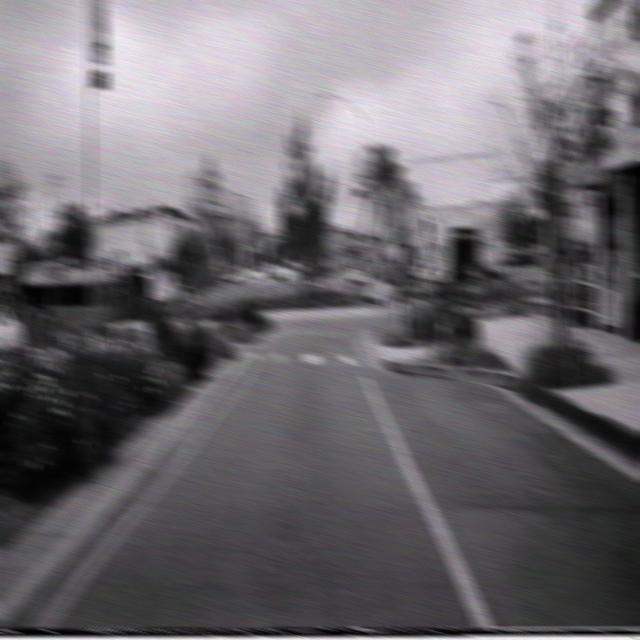pedestrianCrossing: (411, 202, 444, 262)
yield: (379, 225, 401, 258)
